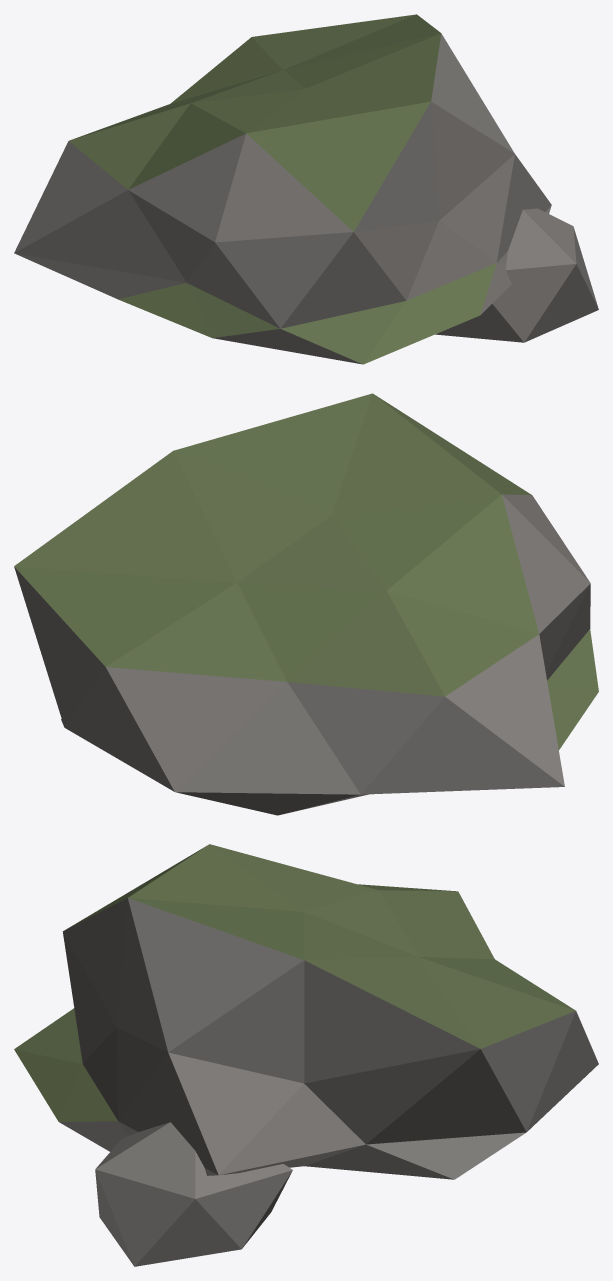
The model's file is rock_a.glb.
The picture shows the model from 3 angles, top to bottom: view 1: azimuth 30°, elevation 25°; view 2: azimuth 150°, elevation 25°; view 3: azimuth 270°, elevation 25°; orthographic projection. The views are drawn at different scales.
Visible parts, largest first — view 1: rock_a; view 2: rock_a; view 3: rock_a.
Part boxes in pixels (x1,y1,x2,y2): rock_a: [14, 14, 598, 364]; rock_a: [14, 393, 598, 815]; rock_a: [14, 844, 598, 1266].
Size of the model in its own units: 2.17 by 1.2 by 2.15.
